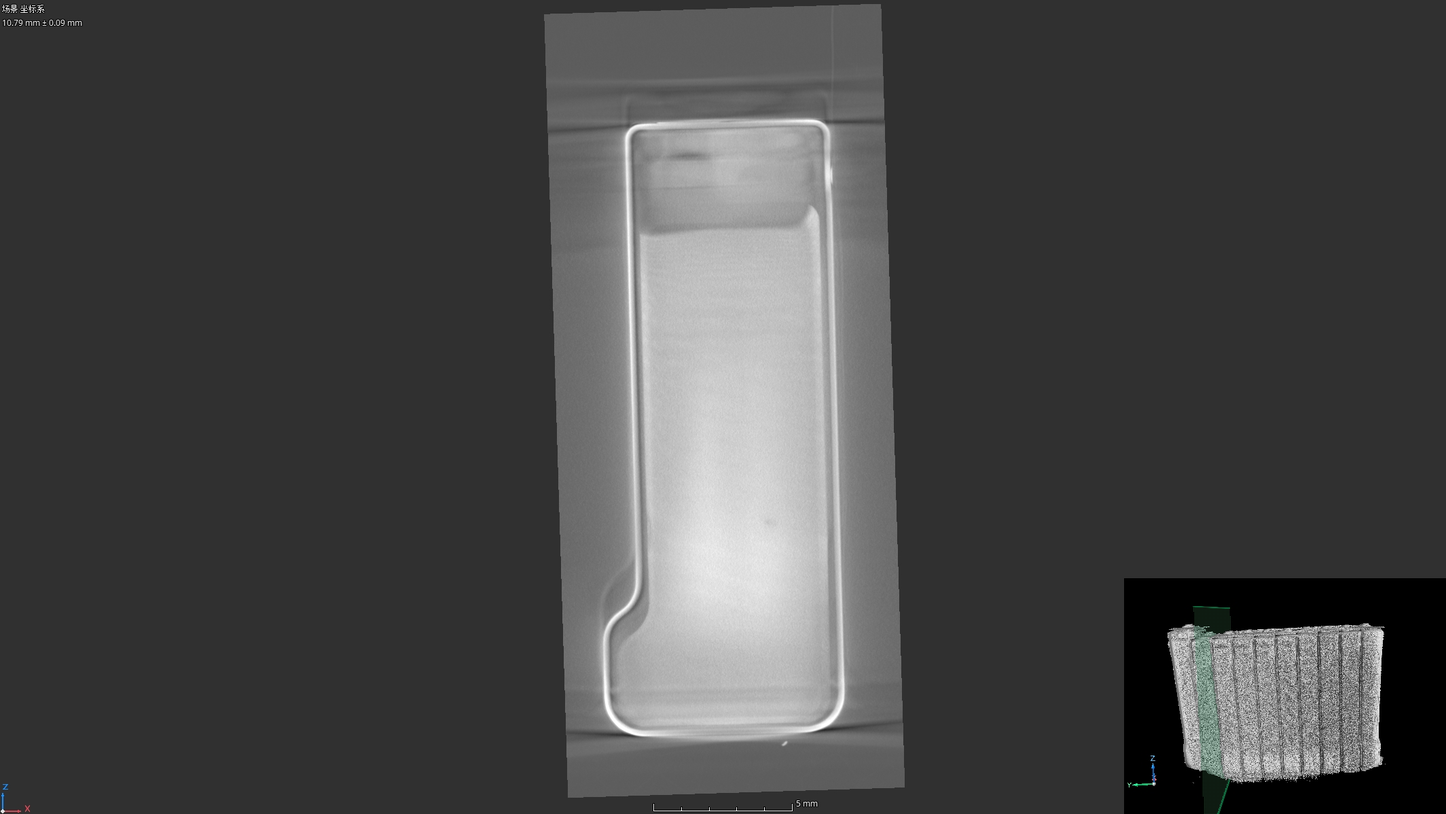dark: (762, 515, 777, 530)
